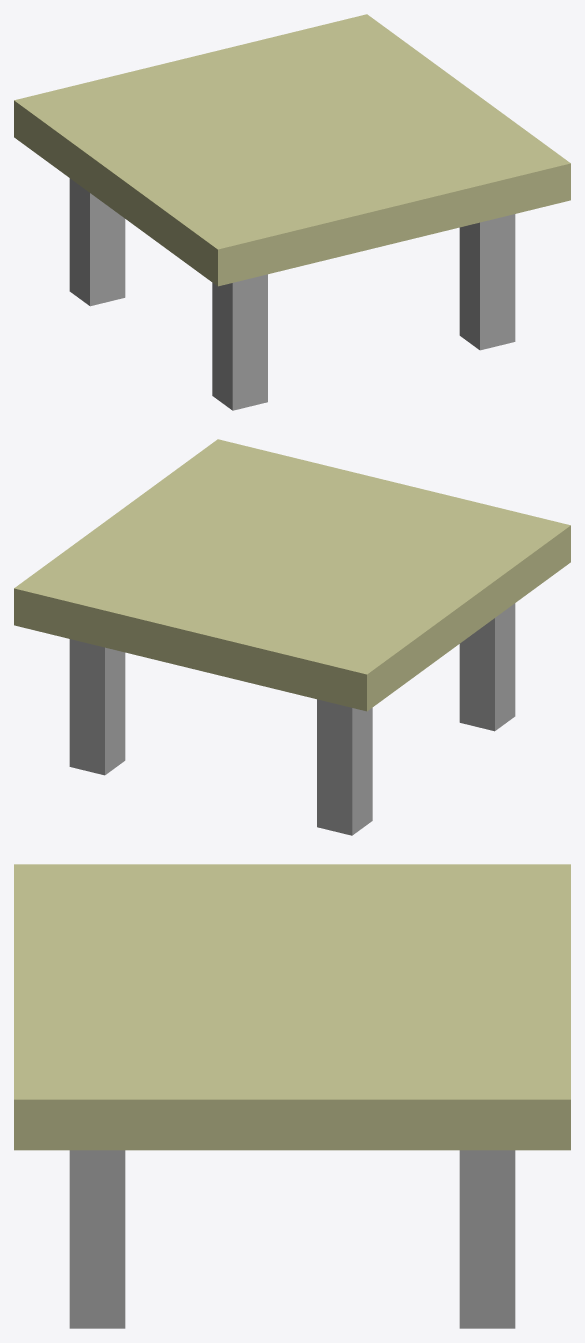
File: obj_table2.fbx
3 views of the same model, one above another, from view 1: azimuth 30°, elevation 25°; view 2: azimuth 150°, elevation 25°; view 3: azimuth 270°, elevation 25° (orthographic). The views are drawn at different scales.
Parts seen in each view (by area): view 1: obj_table2; view 2: obj_table2; view 3: obj_table2.
Part boxes in pixels (x1=…): obj_table2: x1=14, y1=14, x2=570, y2=410; obj_table2: x1=14, y1=439, x2=570, y2=835; obj_table2: x1=14, y1=864, x2=570, y2=1328.
Bounding box in the file's own units: 1 × 1 × 0.5.
Materials: 1 (1 with a texture image).
